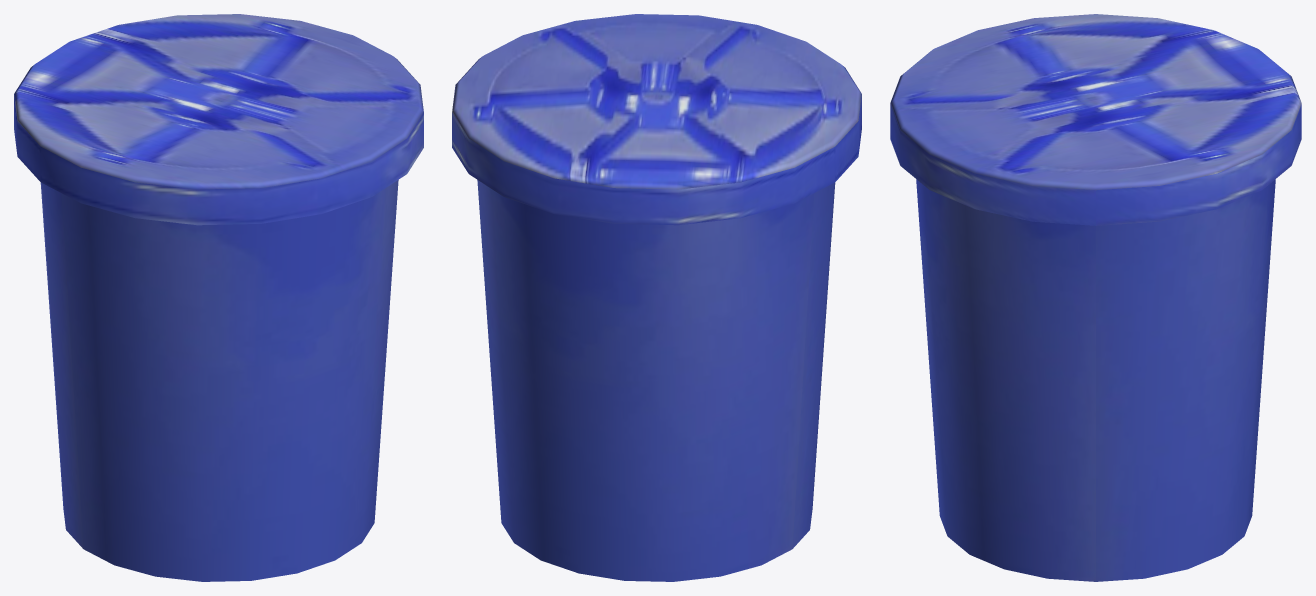
Rendered from geo_Bucket.fbx.
3 views of the same model, side by side, from view 1: azimuth 30°, elevation 25°; view 2: azimuth 150°, elevation 25°; view 3: azimuth 270°, elevation 25° (orthographic).
Visible parts, largest first — view 1: geo_Bucket; view 2: geo_Bucket; view 3: geo_Bucket.
Boxes of the visible parts, x1,y1,x2,y2 form: geo_Bucket: [14, 14, 423, 581]; geo_Bucket: [452, 14, 861, 581]; geo_Bucket: [890, 14, 1301, 581].
Bounding box in the file's own units: 62.28 × 69.65 × 62.28.
